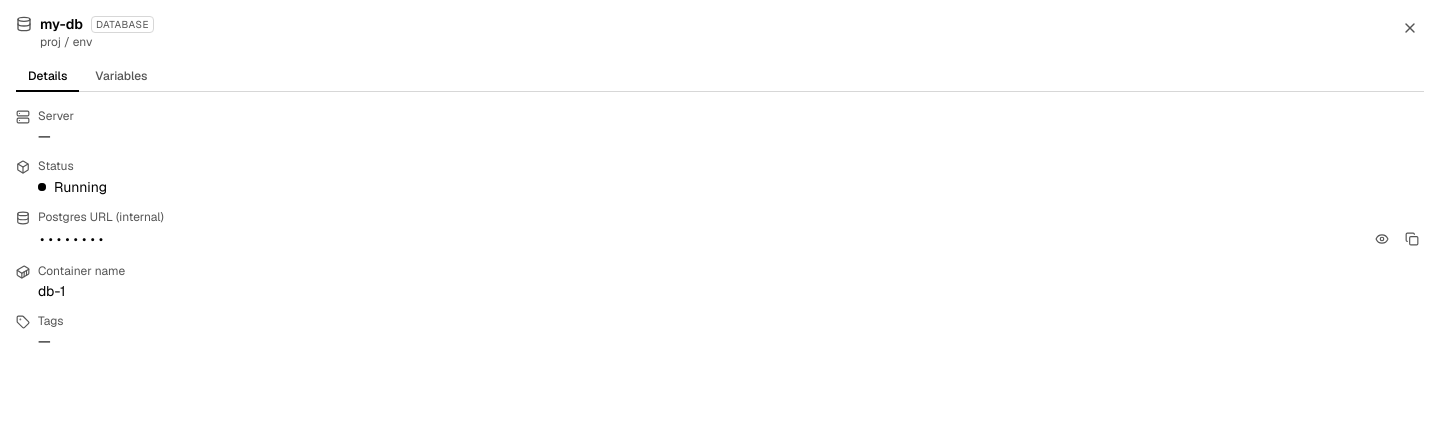
DatabaseCopyMenu Escape handling › Escape closes the copy menu but keeps the drawer open
Click the button named "copy connection url". click: (1412, 239)
box: [1400, 227, 1424, 251]
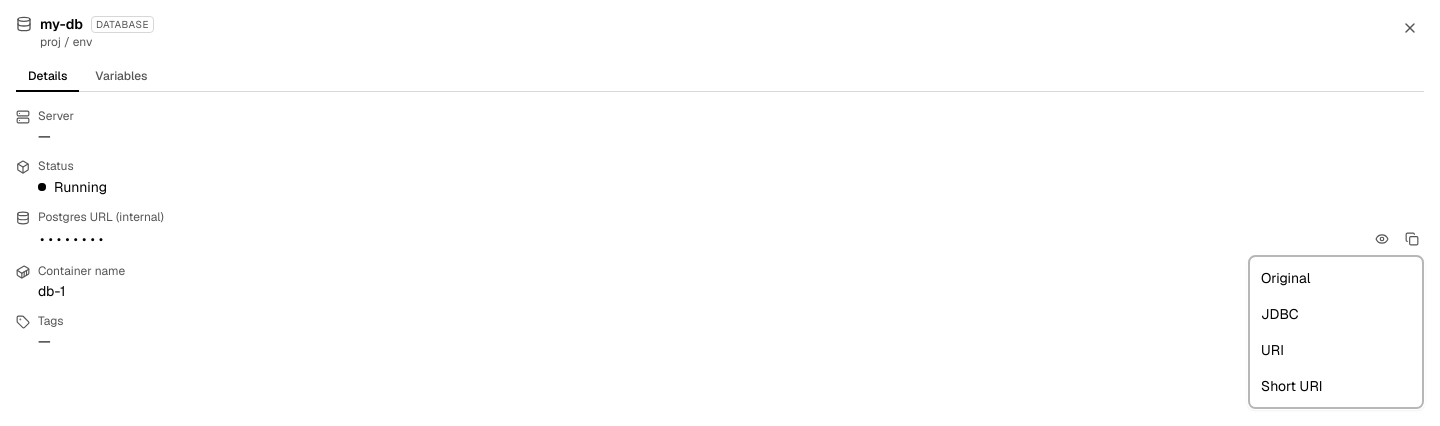
expect the menu item "JDBC" is shown: met, box [1249, 296, 1423, 332]
Escape while the menu is open dismisses only the menu, not the drawer.
Press Escape in the button named "copy connection url", box [1400, 227, 1424, 251]
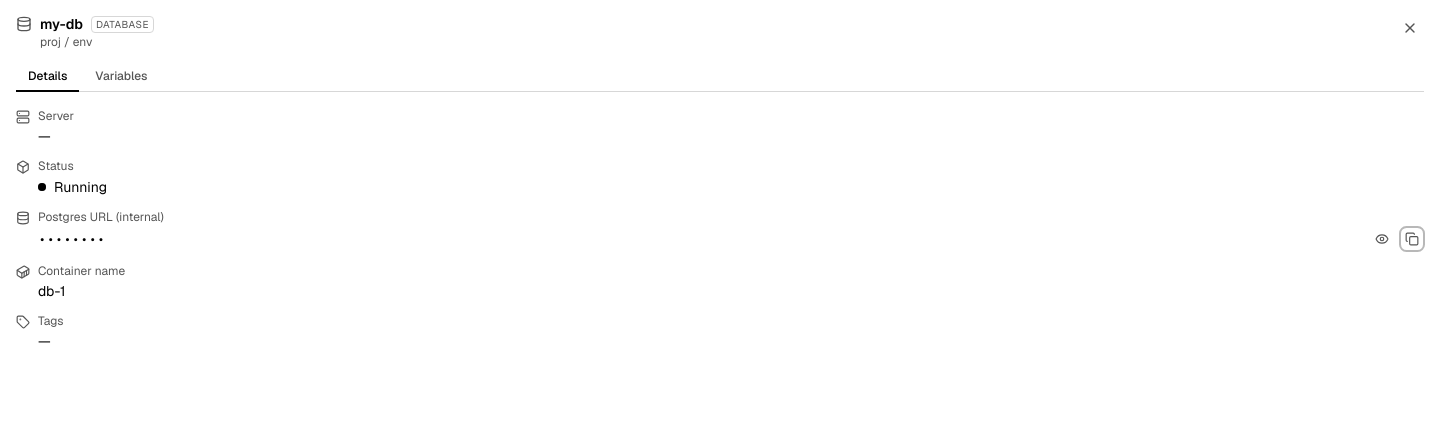
expect the menu item "JDBC" is gone: met
